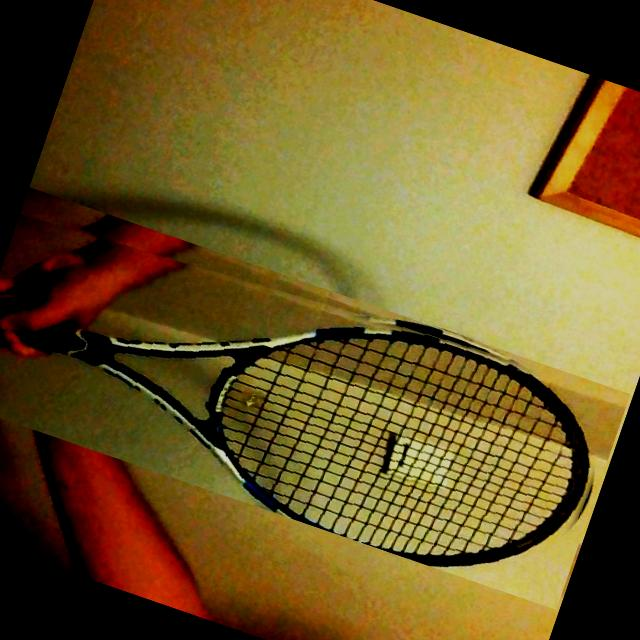TennisRacket: (0, 186, 629, 609)
